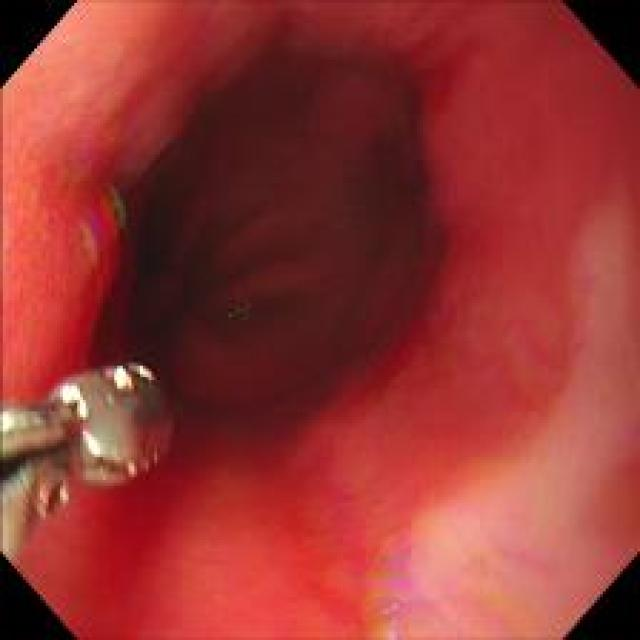blur: (1, 356, 179, 564)
color misalignment: (76, 185, 136, 269), (372, 554, 431, 638), (219, 296, 265, 325)
contrast: (88, 45, 448, 446)
instrument: (0, 356, 180, 565)
specularity: (60, 380, 90, 418), (109, 365, 134, 394), (82, 430, 106, 459), (131, 360, 159, 384)
